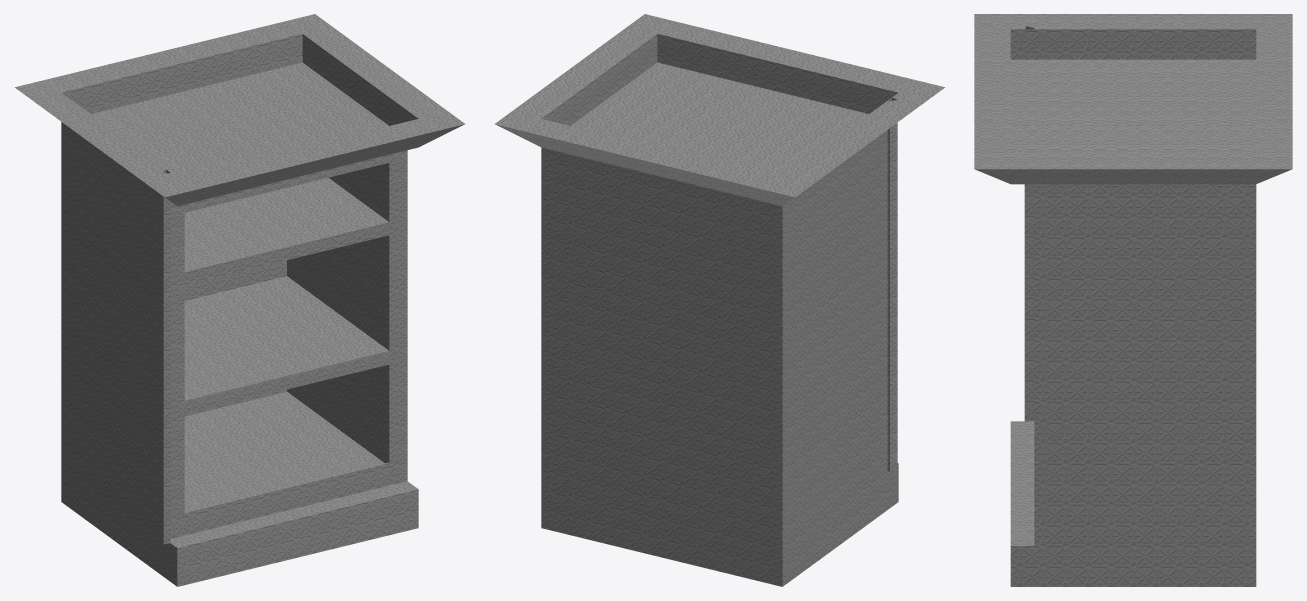
File: frame.dae
3 renders of one model, left to right at view 1: azimuth 30°, elevation 25°; view 2: azimuth 150°, elevation 25°; view 3: azimuth 270°, elevation 25°, orthographic. The views are drawn at different scales.
Parts seen in each view (by area): view 1: #ID17.001, #ID4.001; view 2: #ID17.001; view 3: #ID17.001.
Boxes of the visible parts, <box> form: #ID17.001: <box>15,14,465,586</box>; #ID4.001: <box>184,163,389,512</box>; #ID17.001: <box>494,14,944,586</box>; #ID17.001: <box>974,14,1292,586</box>.
Bounding box in the file's own units: 1.06 × 0.9147 × 1.37.
Materials: 2 (2 with a texture image).
